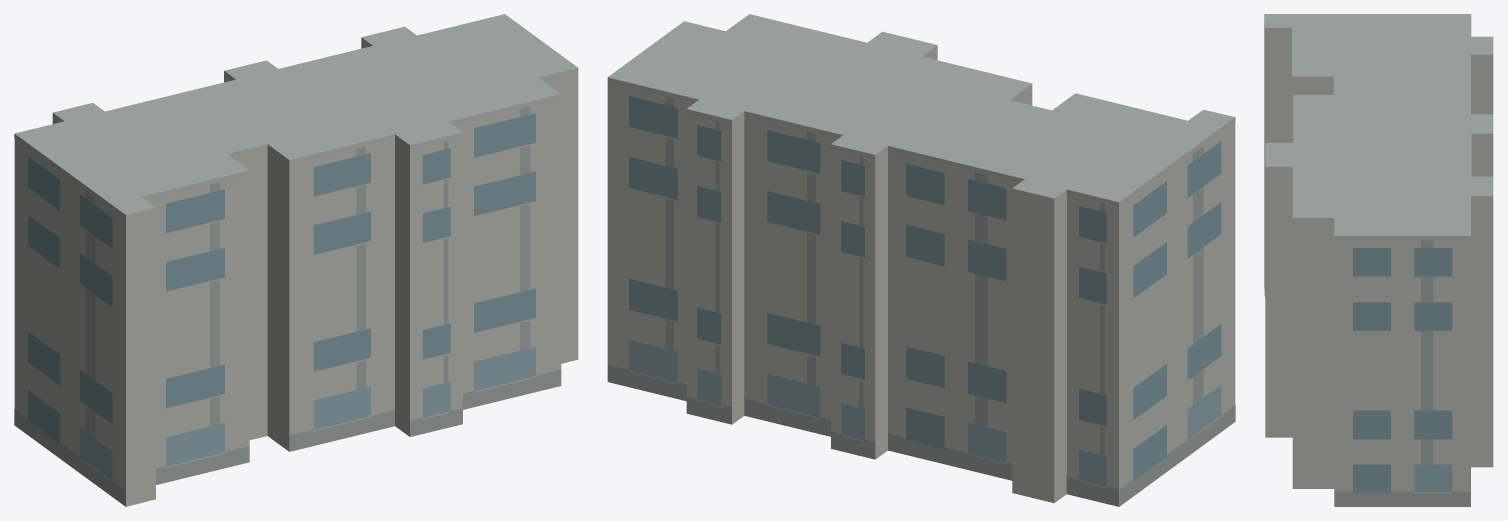
Rendered from survey-upis-32873806.glb.
3 views of the same model, side by side, from view 1: azimuth 30°, elevation 25°; view 2: azimuth 150°, elevation 25°; view 3: azimuth 270°, elevation 25° (orthographic). The views are drawn at different scales.
Visible parts, largest first — view 1: survey-upis-32873806.tmp; view 2: survey-upis-32873806.tmp; view 3: survey-upis-32873806.tmp.
Part boxes in pixels (box(x1,y1,x2,y2)): survey-upis-32873806.tmp: box(14, 14, 578, 506); survey-upis-32873806.tmp: box(607, 14, 1235, 506); survey-upis-32873806.tmp: box(1264, 14, 1493, 506).
Bounding box in the file's own units: 26.83 × 15.25 × 11.7.
